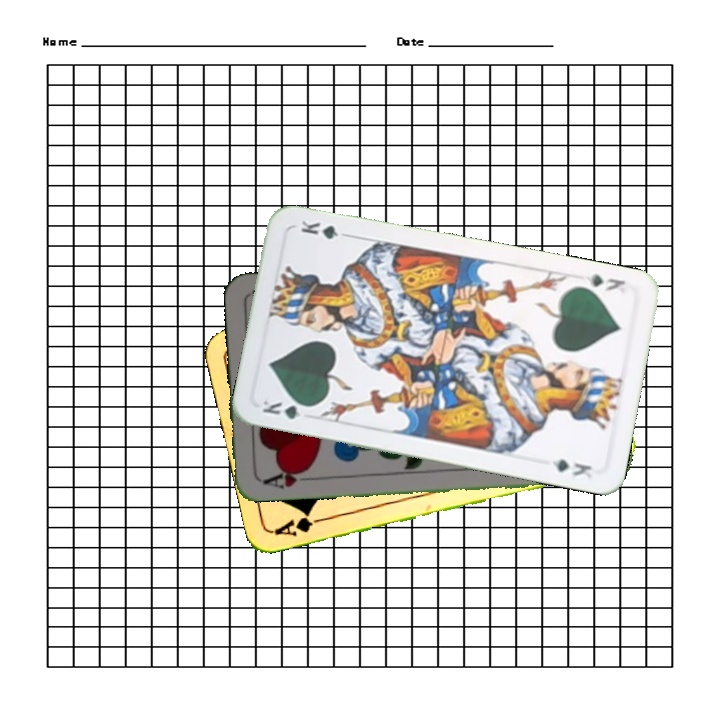GA: (270, 508, 329, 539)
GK: (258, 396, 316, 422), (581, 270, 628, 296)
HA: (258, 464, 316, 492)
